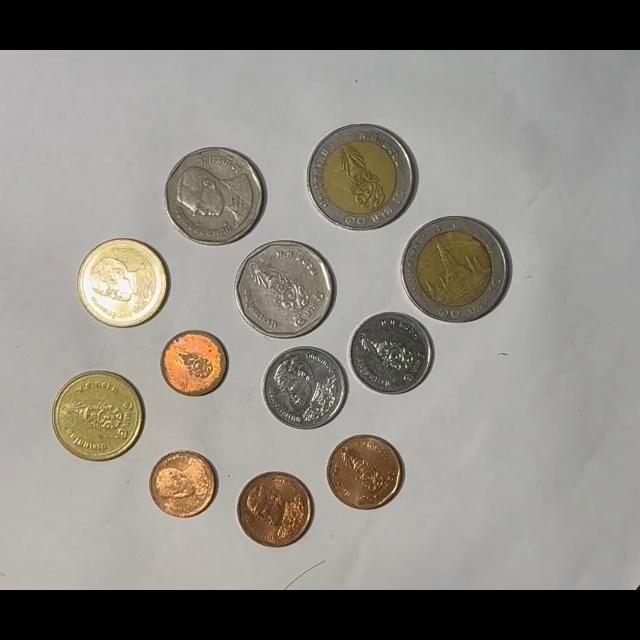1-baht: (262, 346, 347, 430), (349, 311, 434, 395)
10-baht: (306, 124, 417, 232), (401, 216, 510, 323)
2-baht: (53, 371, 145, 462), (77, 238, 168, 329)
25-satang: (149, 450, 219, 520), (161, 330, 229, 396)
5-baht: (235, 240, 336, 340), (165, 147, 266, 247)
50-satang: (236, 471, 313, 548), (326, 435, 404, 510)
